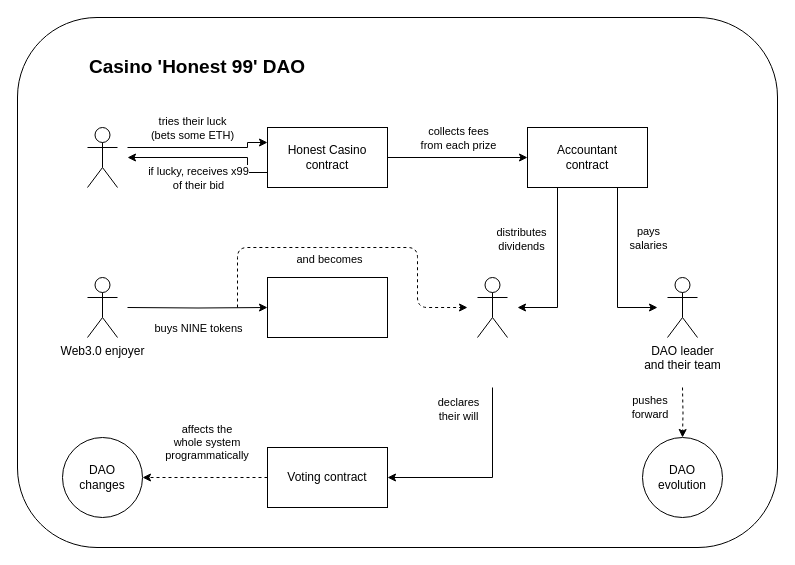
Image size: 795x565. Some labels were removed from this diagram. The centre of each missing label's shape, as x and y in pixels:
"Casino player" goes at [102,157].
"DAO member (shareholder)" goes at [492,307].
"NINE Token contract" goes at [327,307].
